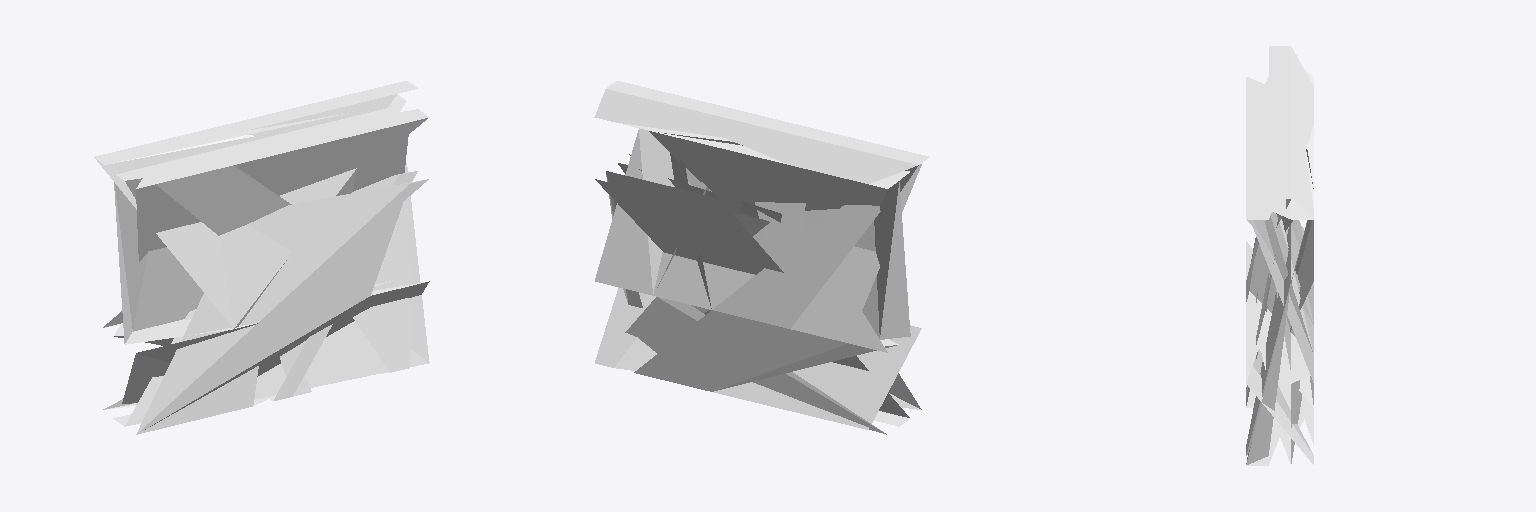
Rendered from green_spring_2.obj.
3 renders of one model, left to right at view 1: azimuth 30°, elevation 25°; view 2: azimuth 150°, elevation 25°; view 3: azimuth 270°, elevation 25°, orthographic.
Size of the model in its own units: 16 by 13 by 3.